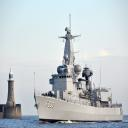Fragata: (34, 13, 125, 125)
